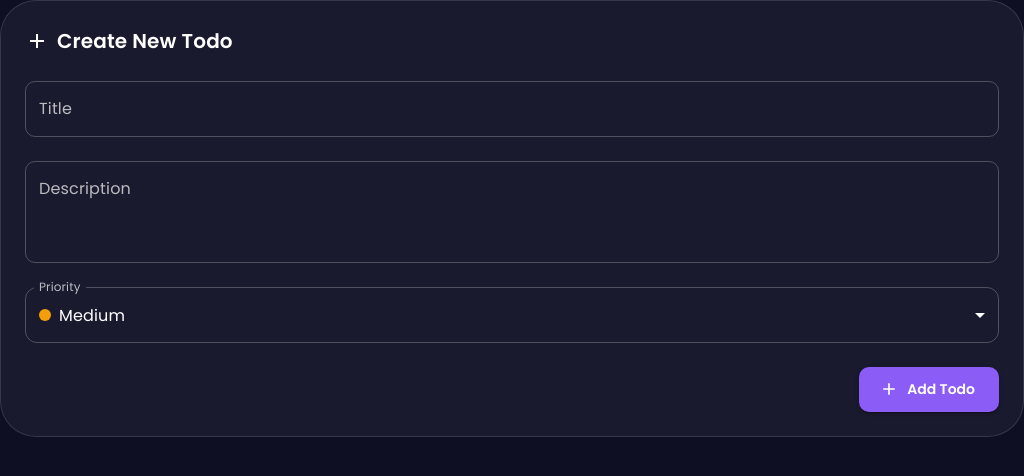
TodoForm › form validation › should show error for short title
Step 1. Type "ab" into the field labelled "Title" → (512, 109), box [25,81,999,137]
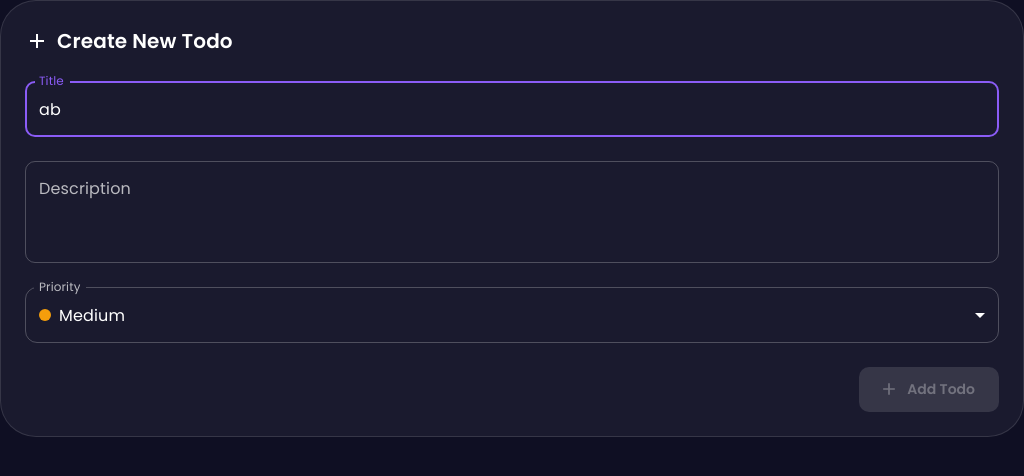
Step 2. Press Tab
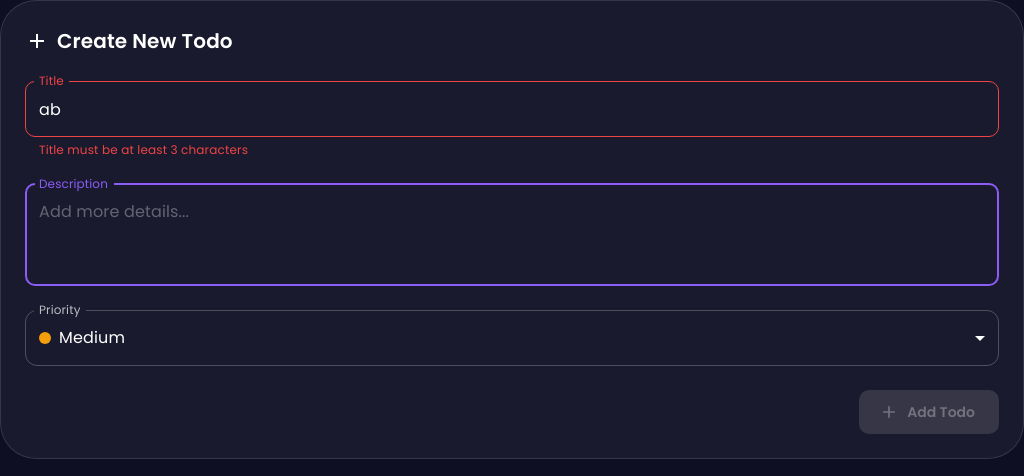
Expected: the text "Title must be at least 3 characters" is shown, [39,141,248,158]
